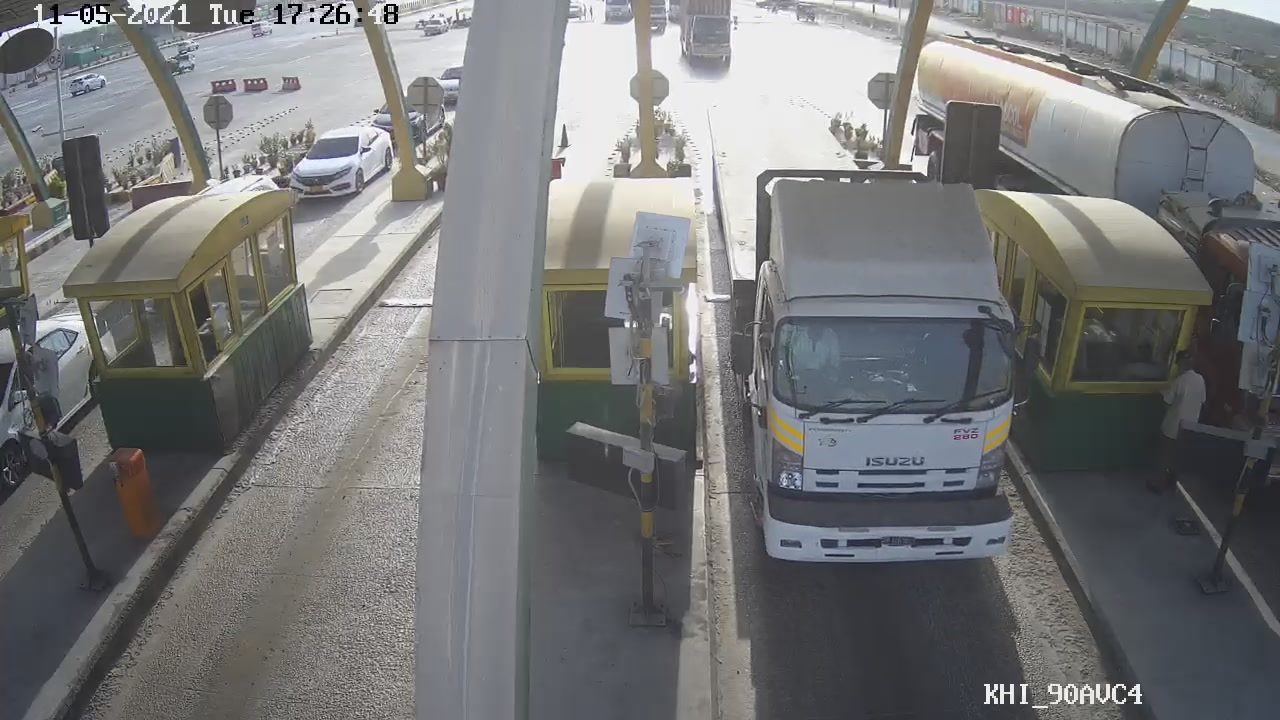F6: (720, 150, 1038, 565)
